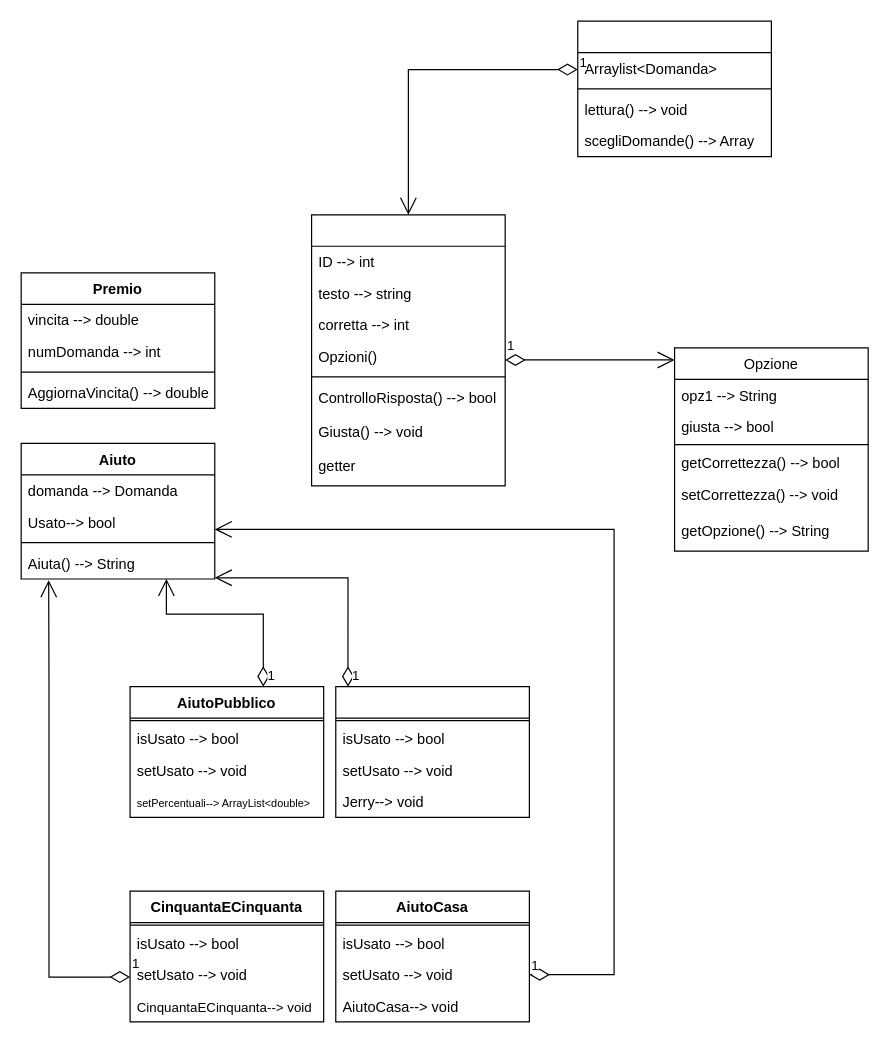
This 889x1047 diagram has some shape labels left out. Here are the shapes that lost their labels. From the top down, the box of each, then its label:
(577, 20, 771, 157): GestoreDomande
(310, 214, 505, 486): Domanda
(335, 685, 529, 817): AiutoJerry
